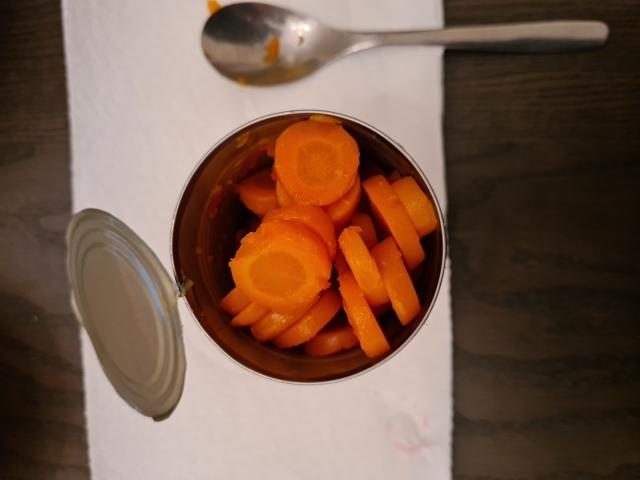kichen waste: (220, 121, 436, 357)
